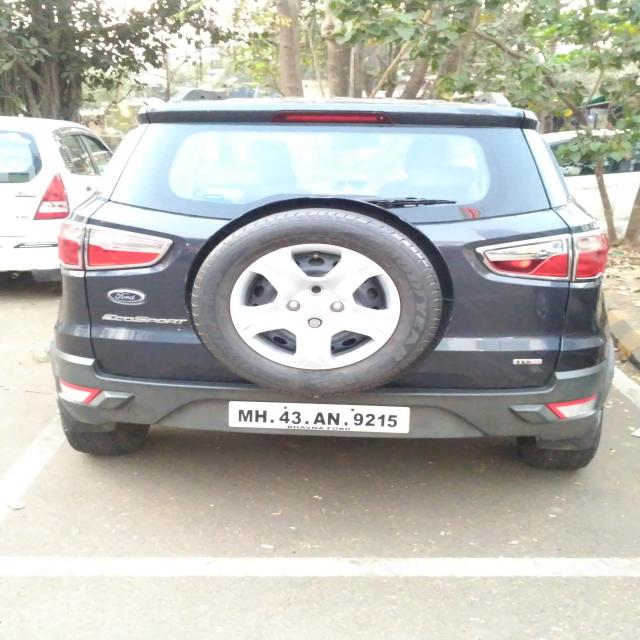Number-Plate: (228, 401, 412, 432)
